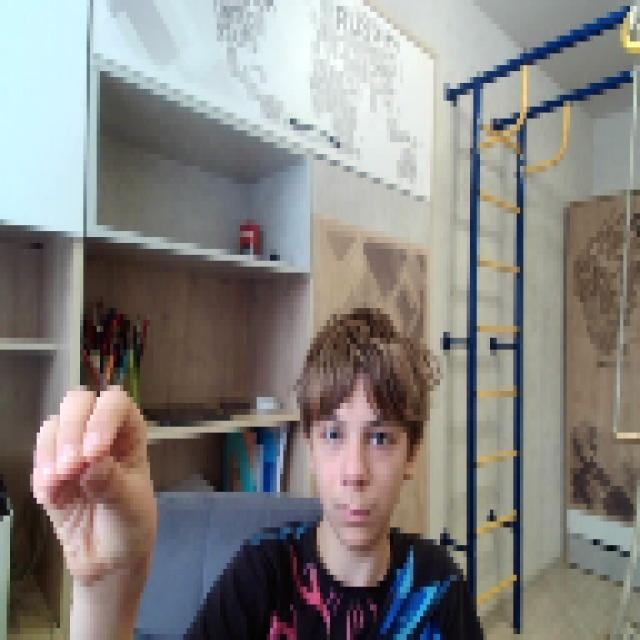left_click: (30, 379, 157, 581)
